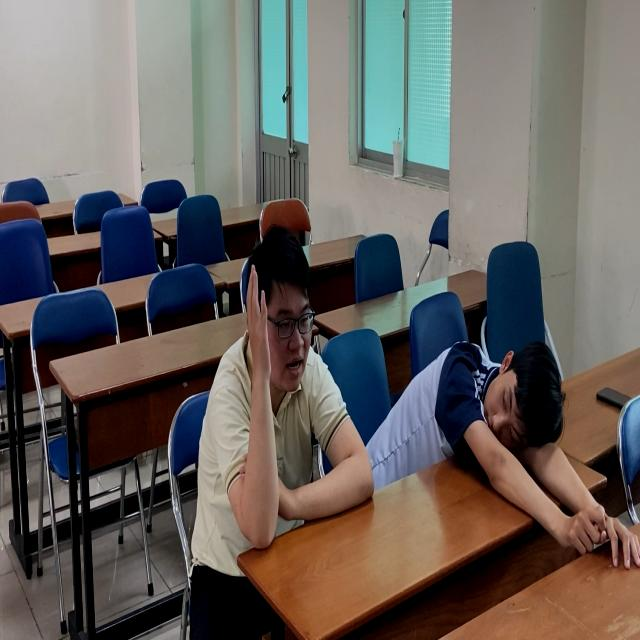raise_hand: (202, 230, 350, 568)
sleep: (399, 338, 588, 494)
